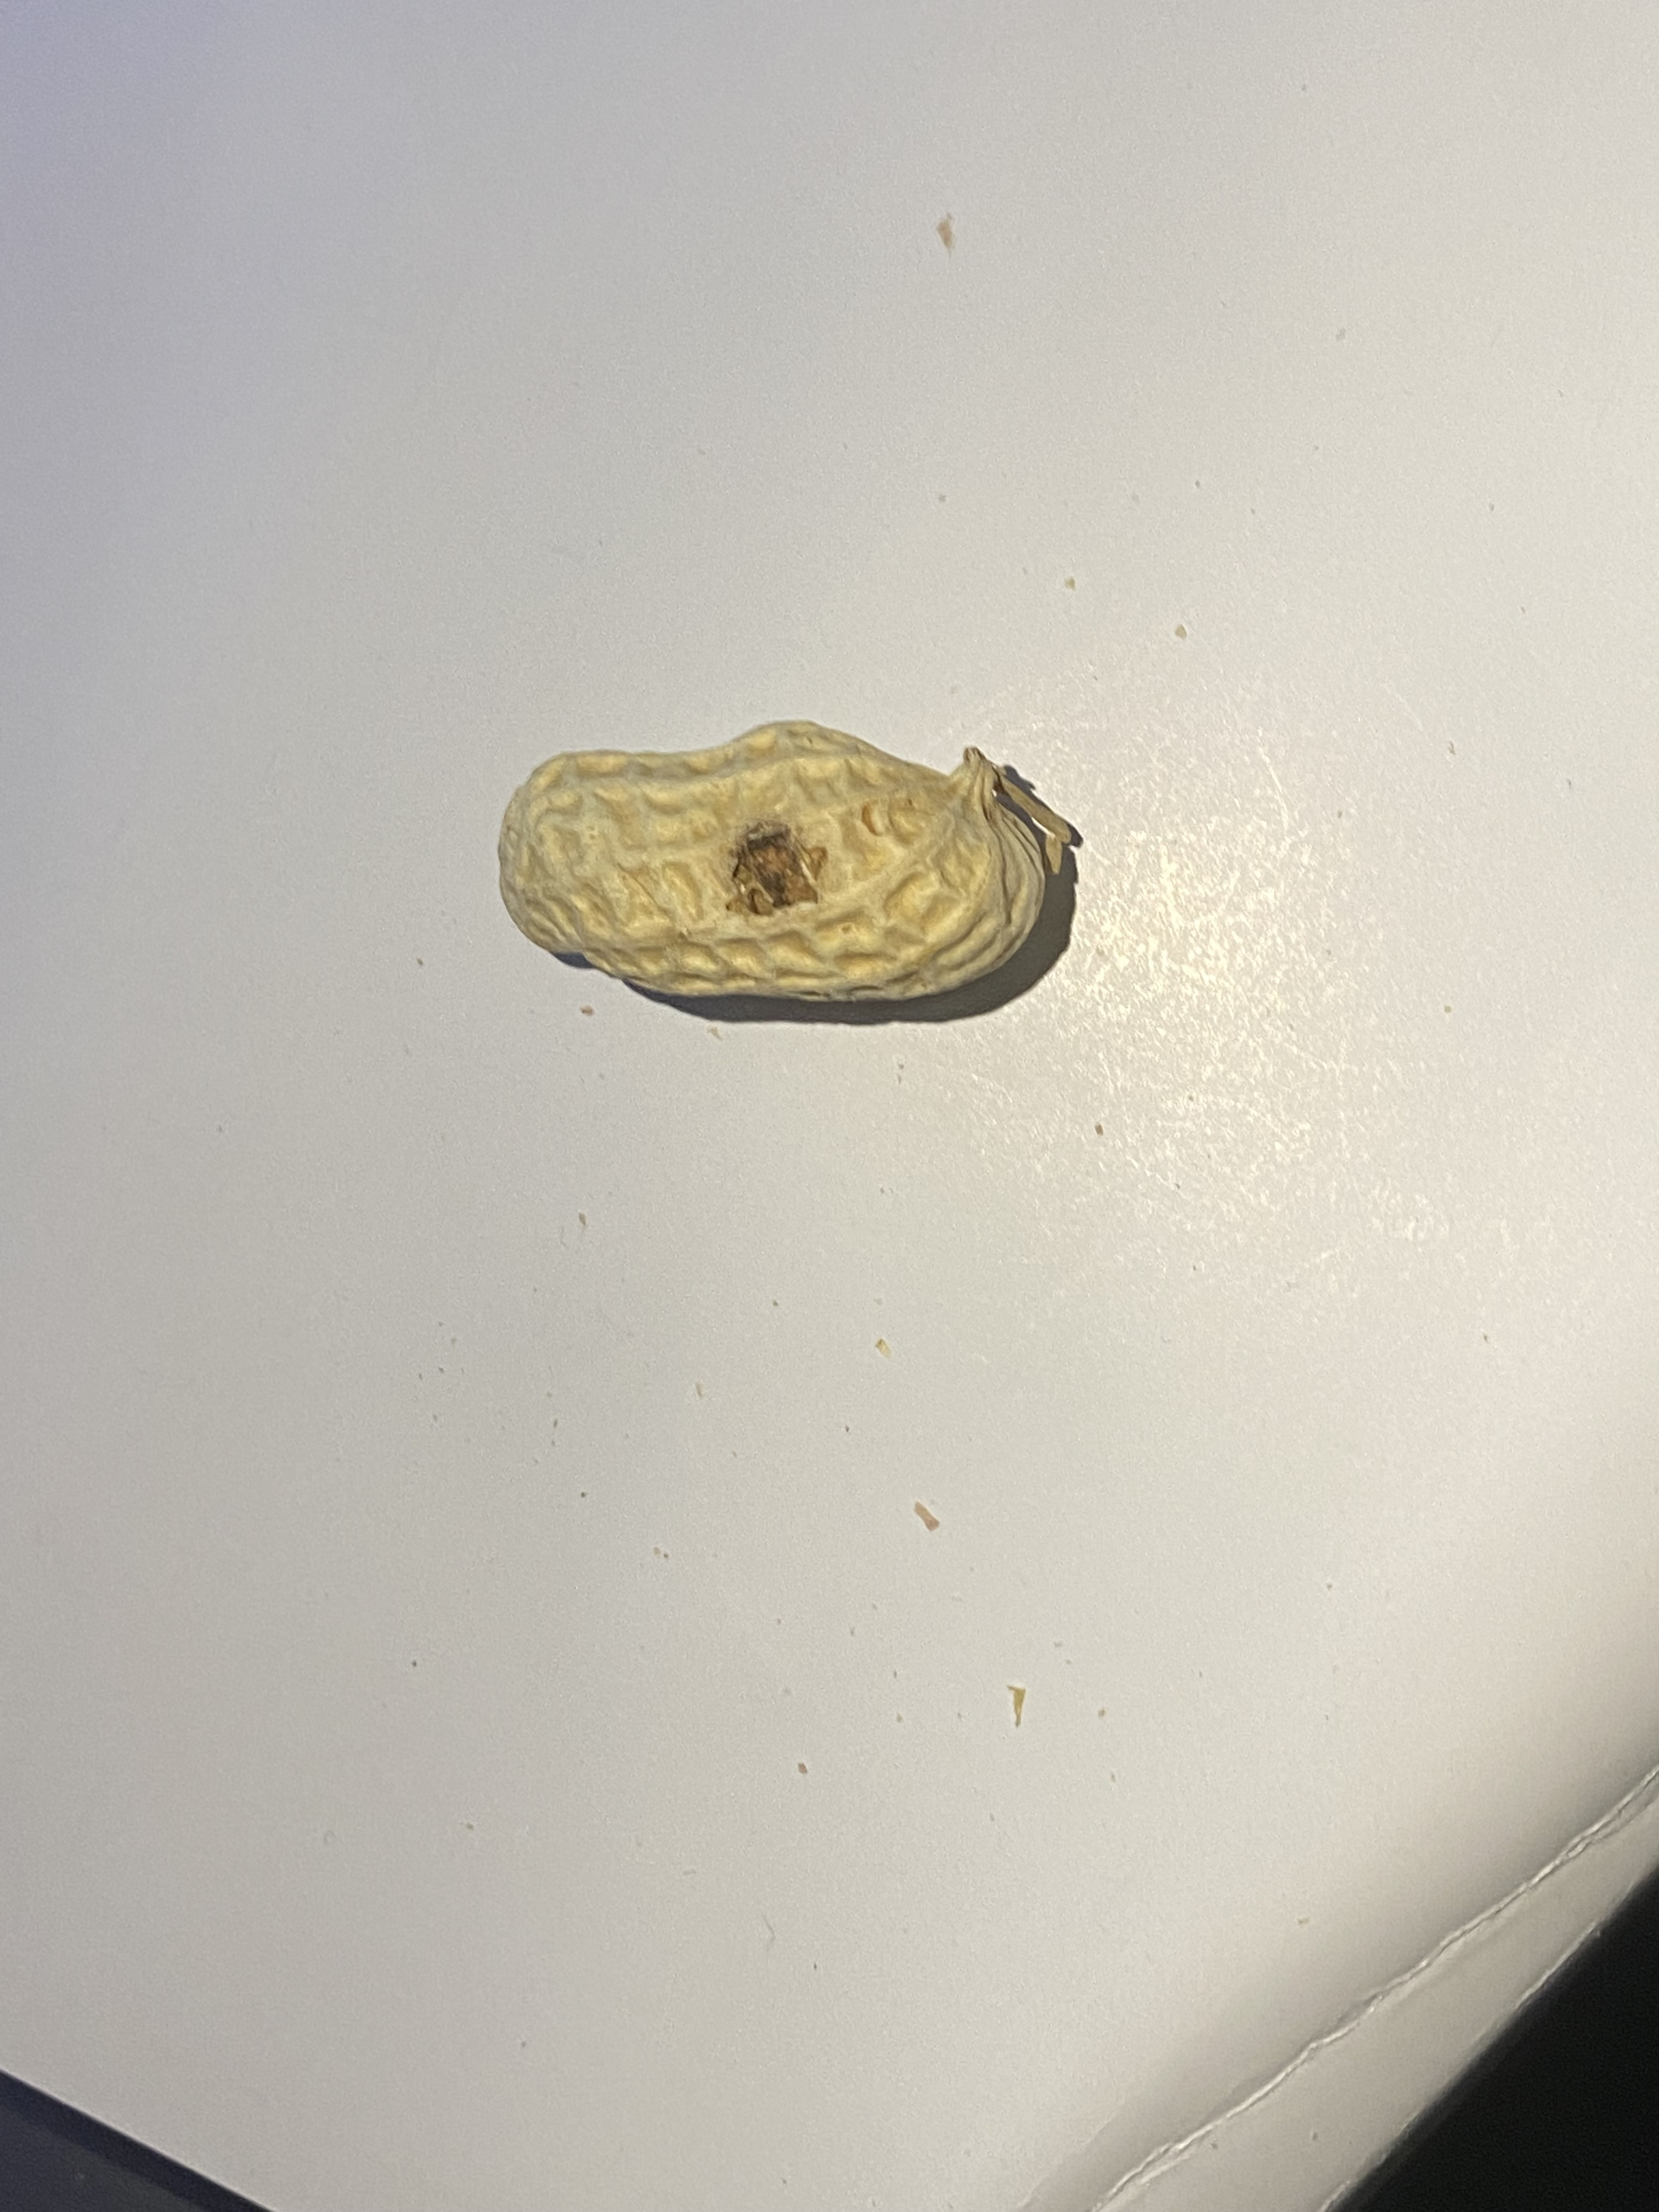kacang2: (467, 698, 1122, 1007)
